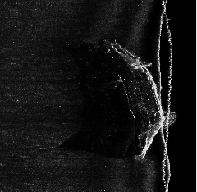ship: (101, 38, 177, 161)
